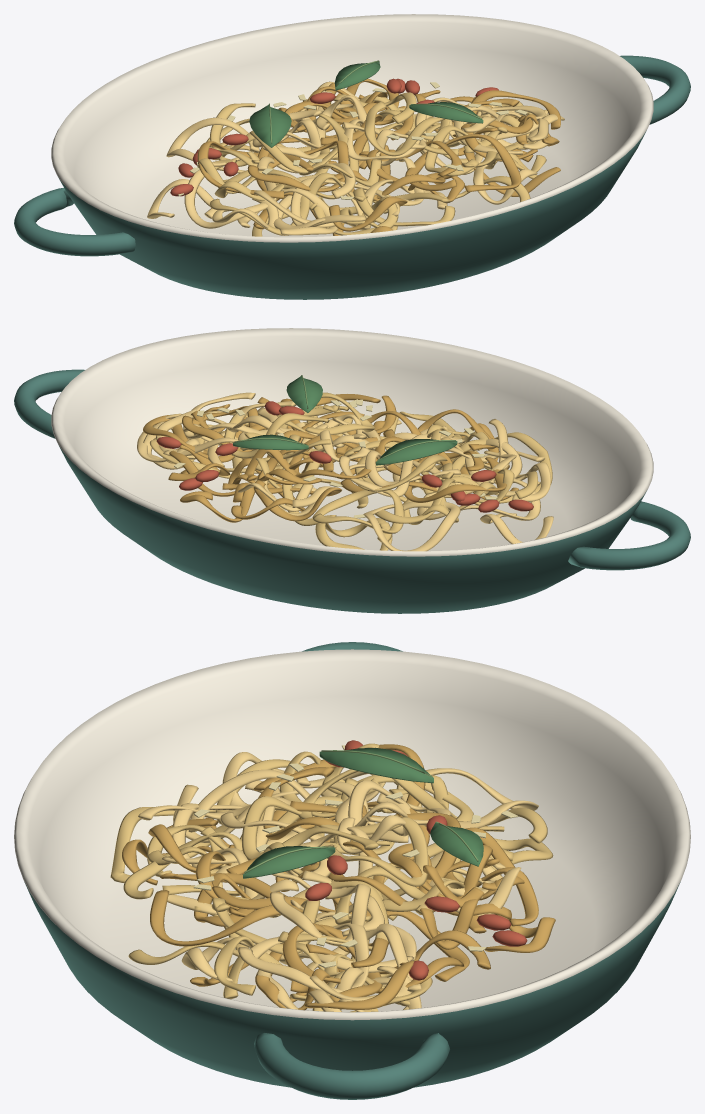
Rendered from meal_herb_pasta_serving.glb.
3 renders of one model, top to bottom at view 1: azimuth 30°, elevation 25°; view 2: azimuth 150°, elevation 25°; view 3: azimuth 270°, elevation 25°, orthographic. The views are drawn at different scales.
Visible parts, largest first — view 1: DishGeometry, FoodGeometry; view 2: DishGeometry, FoodGeometry; view 3: DishGeometry, FoodGeometry.
Boxes of the visible parts, x1,y1,x2,y2 form: DishGeometry: [14, 14, 690, 299]; FoodGeometry: [147, 60, 564, 236]; DishGeometry: [14, 328, 690, 613]; FoodGeometry: [137, 375, 553, 551]; DishGeometry: [14, 642, 690, 1099]; FoodGeometry: [110, 740, 555, 1012].
Bounding box in the file's own units: 0.498 × 0.0817 × 0.3229.
